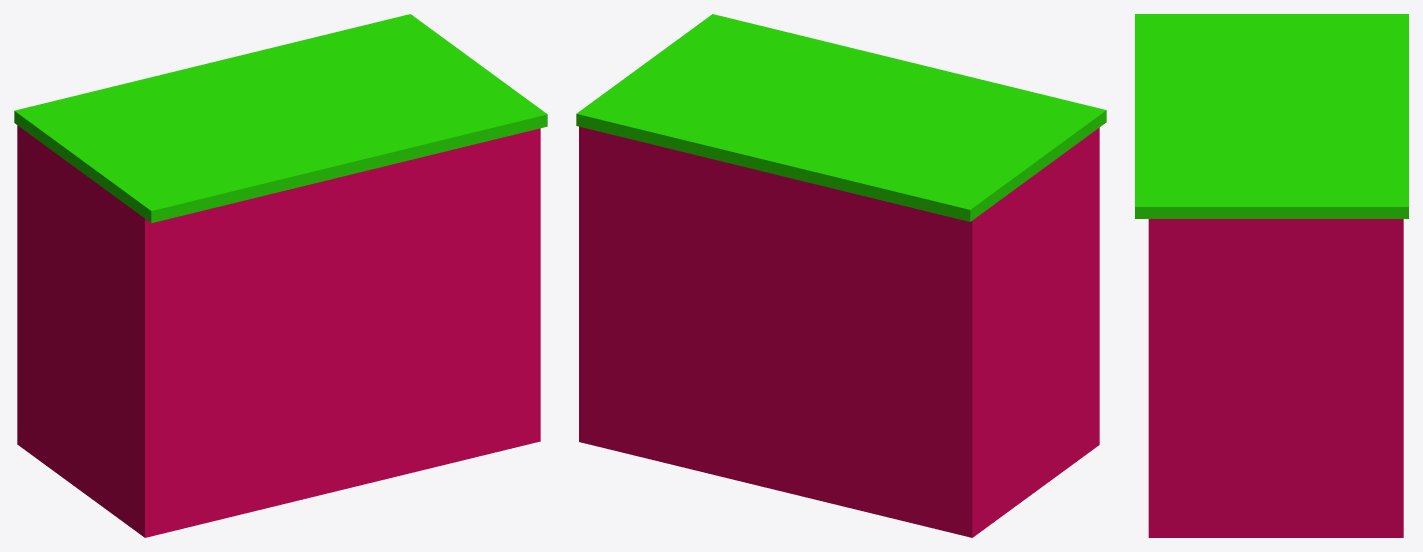
File: Kitchen_Cupboard_11_Lod0.fbx
The picture shows the model from 3 angles, left to right: view 1: azimuth 30°, elevation 25°; view 2: azimuth 150°, elevation 25°; view 3: azimuth 270°, elevation 25°; orthographic projection.
Visible parts, largest first — view 1: Kitchen_Cupboard_11_Lod0; view 2: Kitchen_Cupboard_11_Lod0; view 3: Kitchen_Cupboard_11_Lod0.
Part boxes in pixels (<box>): Kitchen_Cupboard_11_Lod0: <box>14,14,547,537</box>; Kitchen_Cupboard_11_Lod0: <box>576,14,1106,537</box>; Kitchen_Cupboard_11_Lod0: <box>1135,14,1408,537</box>.
Size of the model in its own units: 116 by 93.09 by 69.72.
